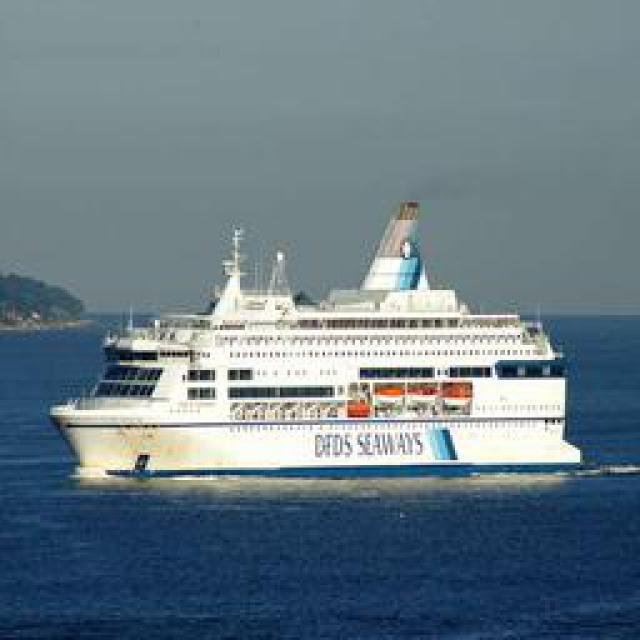Ship: (50, 207, 580, 477)
